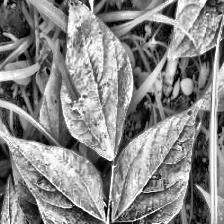ALS: (57, 0, 136, 153), (110, 101, 199, 224), (0, 125, 110, 224)
